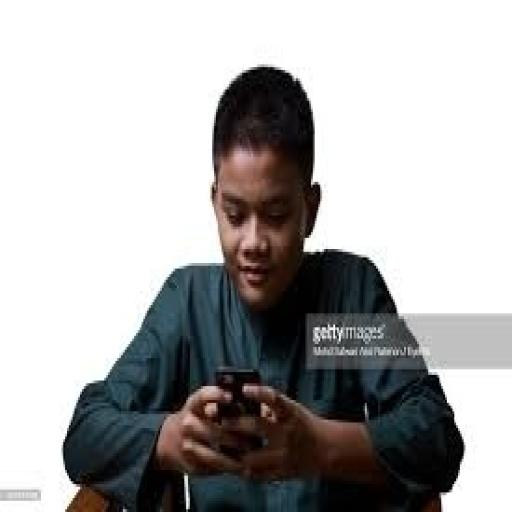texting: (60, 62, 466, 509)
